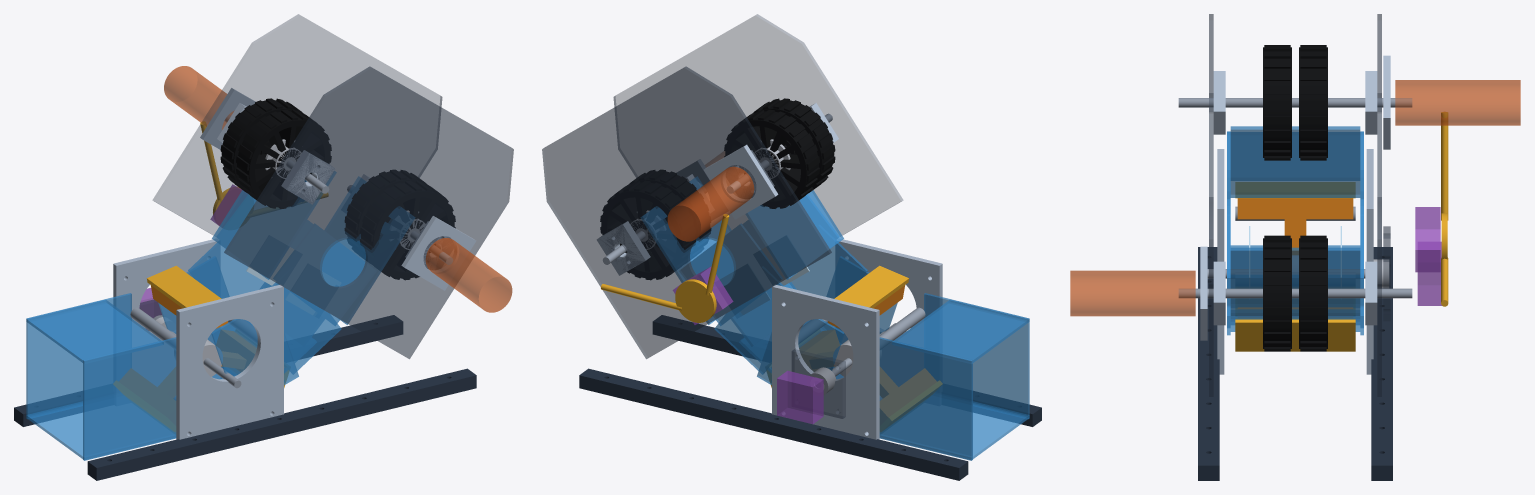
The model's file is paddle_feeder_opposed_flywheel_launcher.glb.
3 views of the same model, side by side, from view 1: azimuth 30°, elevation 25°; view 2: azimuth 150°, elevation 25°; view 3: azimuth 270°, elevation 25° (orthographic). The views are drawn at different scales.
Parts seen in each view (by area): view 1: shooter_side_plate_-1, shooter_side_plate_+1, paddle_support_cheek_-1, horizontal_wall_+1, horizontal_wall_-1, base_rail_-72, horizontal_floor, rising_guide_wall_3_-1, gecko_flywheel_upper_1, paddle_support_cheek_+1, horizontal_roof, shooter_throat_+56 (+21 smaller); view 2: shooter_side_plate_+1, shooter_side_plate_-1, paddle_support_cheek_+1, horizontal_wall_-1, horizontal_wall_+1, base_rail_+72, horizontal_floor, paddle_support_cheek_-1, gecko_flywheel_upper_2, horizontal_roof, shooter_throat_+56, rising_guide_wall_3_+1 (+26 smaller); view 3: shooter_throat_+56, motor_envelope_lower, motor_envelope_upper, horizontal_roof, shooter_throat_-56, base_rail_+72, base_rail_-72, gecko_flywheel_lower_1, gecko_flywheel_lower_2, gecko_flywheel_upper_1, gecko_flywheel_upper_2, paddle_blade_3 (+24 smaller).
Part boxes in pixels (bbox=[...]): shooter_side_plate_-1: bbox=[224, 66, 513, 358]; shooter_side_plate_+1: bbox=[153, 14, 442, 235]; paddle_support_cheek_-1: bbox=[176, 285, 283, 439]; horizontal_wall_+1: bbox=[26, 293, 131, 419]; horizontal_wall_-1: bbox=[83, 337, 176, 460]; base_rail_-72: bbox=[87, 368, 476, 480]; horizontal_floor: bbox=[26, 395, 176, 459]; rising_guide_wall_3_-1: bbox=[273, 223, 376, 325]; gecko_flywheel_upper_1: bbox=[235, 109, 331, 208]; paddle_support_cheek_+1: bbox=[113, 238, 220, 386]; horizontal_roof: bbox=[26, 300, 163, 363]; shooter_throat_+56: bbox=[212, 171, 336, 279]; shooter_side_plate_+1: bbox=[542, 66, 831, 358]; shooter_side_plate_-1: bbox=[613, 14, 902, 235]; paddle_support_cheek_+1: bbox=[772, 285, 879, 439]; horizontal_wall_-1: bbox=[924, 293, 1029, 419]; horizontal_wall_+1: bbox=[879, 337, 972, 460]; base_rail_+72: bbox=[579, 368, 968, 480]; horizontal_floor: bbox=[879, 395, 1029, 460]; paddle_support_cheek_-1: bbox=[835, 238, 942, 386]; gecko_flywheel_upper_2: bbox=[724, 109, 820, 208]; horizontal_roof: bbox=[892, 300, 1029, 363]; shooter_throat_+56: bbox=[746, 190, 843, 279]; rising_guide_wall_3_+1: bbox=[679, 223, 782, 325]; shooter_throat_+56: bbox=[1230, 126, 1360, 197]; motor_envelope_lower: bbox=[1070, 270, 1195, 316]; motor_envelope_upper: bbox=[1395, 80, 1520, 125]; horizontal_roof: bbox=[1227, 132, 1363, 180]; shooter_throat_-56: bbox=[1230, 247, 1360, 318]; base_rail_+72: bbox=[1371, 247, 1392, 480]; base_rail_-72: bbox=[1198, 247, 1219, 480]; gecko_flywheel_lower_1: bbox=[1263, 235, 1291, 351]; gecko_flywheel_lower_2: bbox=[1299, 235, 1327, 351]; gecko_flywheel_upper_1: bbox=[1263, 45, 1291, 160]; gecko_flywheel_upper_2: bbox=[1299, 45, 1327, 160]; paddle_blade_3: bbox=[1237, 198, 1353, 219].
Size of the model in its own units: 477 by 369 by 374.
